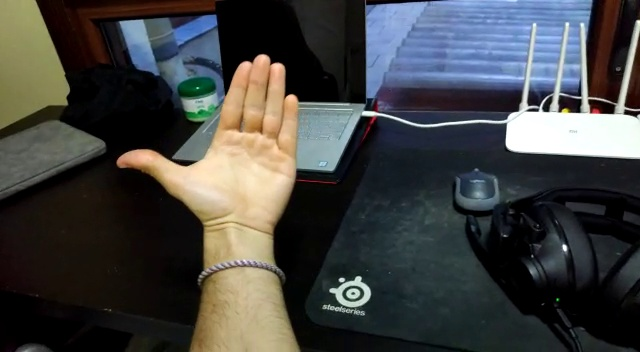Palm: (113, 51, 300, 245)
